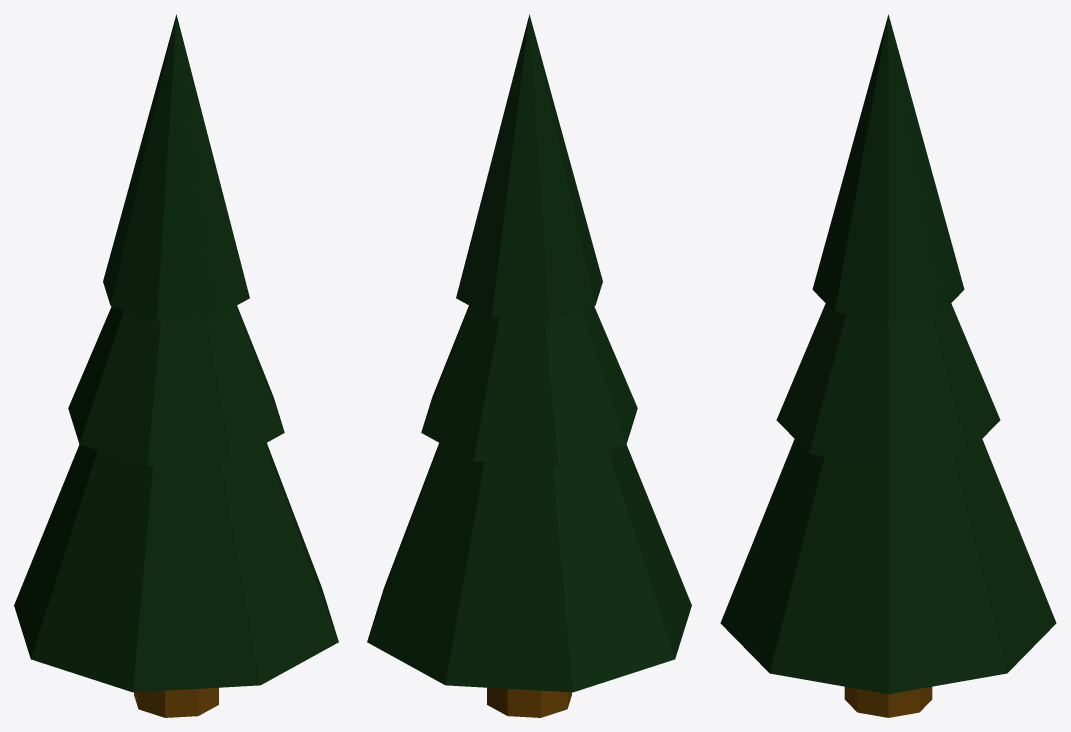
The picture shows the model from 3 angles, left to right: view 1: azimuth 30°, elevation 25°; view 2: azimuth 150°, elevation 25°; view 3: azimuth 270°, elevation 25°; orthographic projection.
Parts seen in each view (by area): view 1: Tree; view 2: Tree; view 3: Tree.
Boxes of the visible parts, left/top/right/bottom form: Tree: left=14, top=14, right=338, bottom=717; Tree: left=367, top=14, right=691, bottom=717; Tree: left=720, top=14, right=1056, bottom=717.
Size of the model in its own units: 2 by 4.5 by 2.
